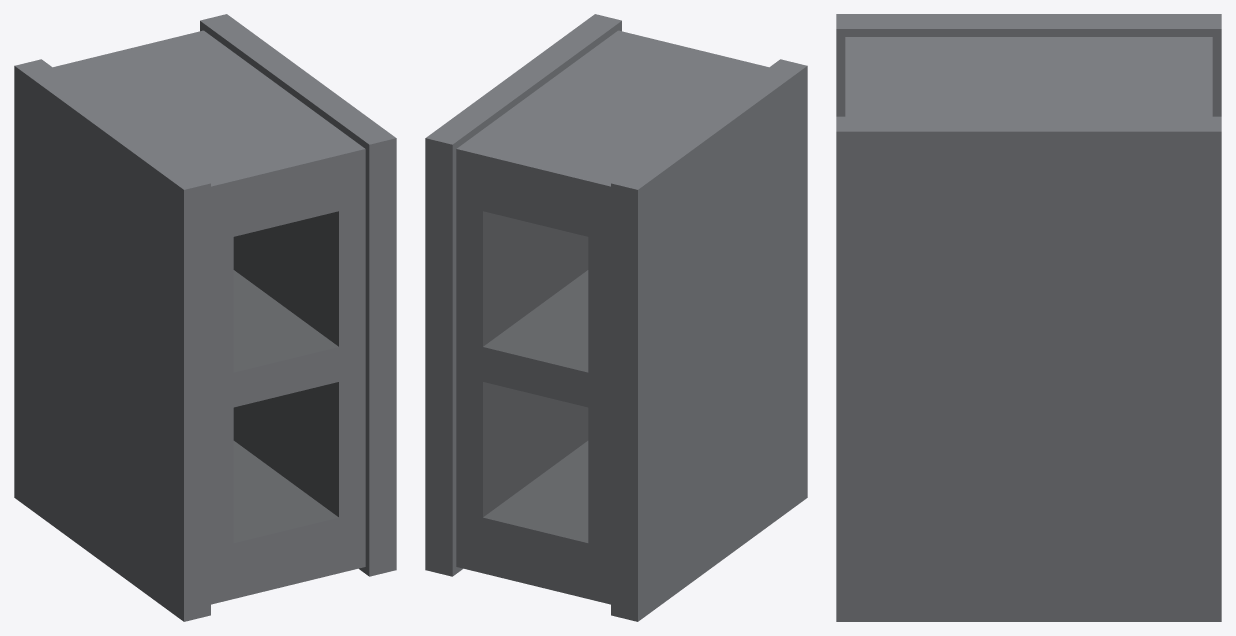
Rendered from ConcreteBlock_1.fbx.
3 renders of one model, left to right at view 1: azimuth 30°, elevation 25°; view 2: azimuth 150°, elevation 25°; view 3: azimuth 270°, elevation 25°, orthographic. The views are drawn at different scales.
Visible parts, largest first — view 1: ConcreteBlock_1; view 2: ConcreteBlock_1; view 3: ConcreteBlock_1.
Boxes of the visible parts, bbox=[...] form: ConcreteBlock_1: bbox=[14, 14, 396, 621]; ConcreteBlock_1: bbox=[425, 14, 807, 621]; ConcreteBlock_1: bbox=[836, 14, 1221, 621].
Size of the model in its own units: 19.74 by 38.36 by 27.3.
